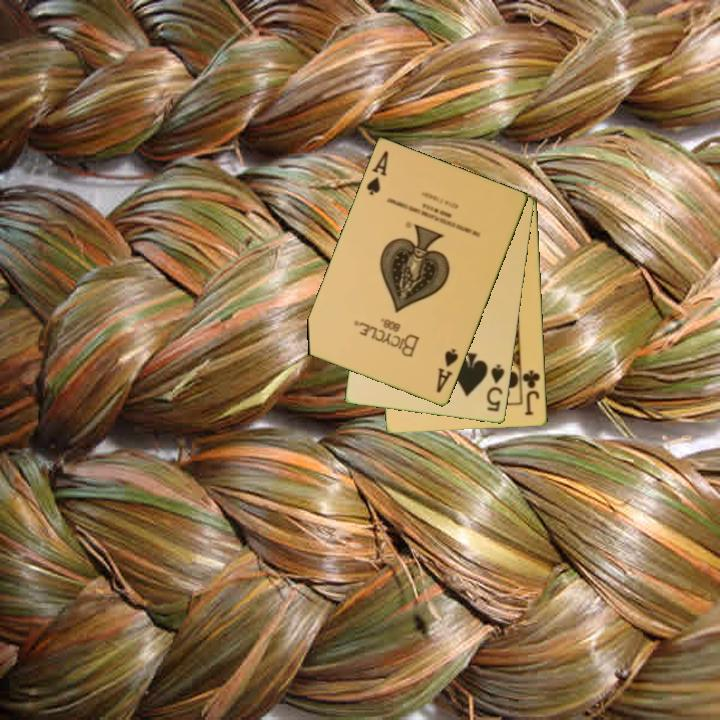5s: (483, 361, 507, 415)
As: (363, 147, 392, 199), (433, 345, 461, 396)
Jc: (520, 367, 543, 419)
